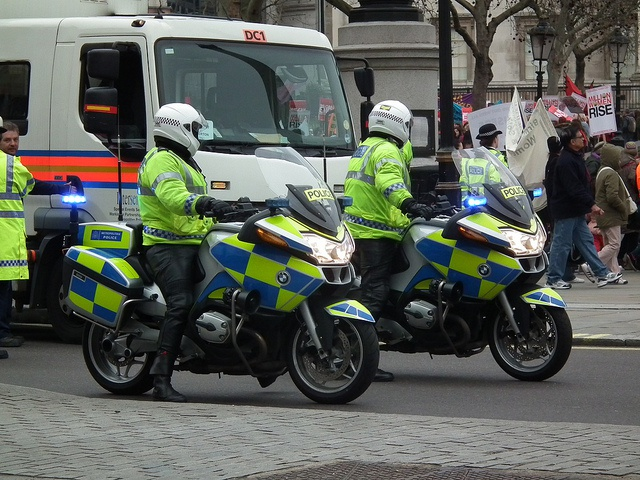non-vehicle: (69, 183, 378, 407), (371, 148, 573, 381)
